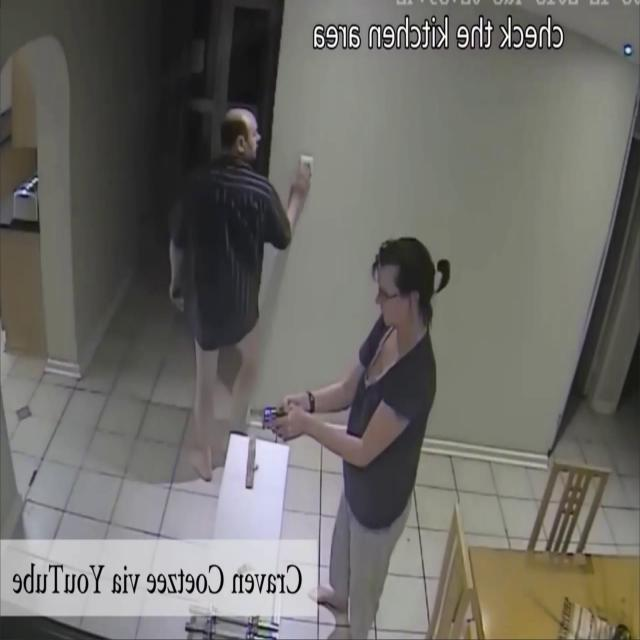Gun: (248, 403, 288, 442)
